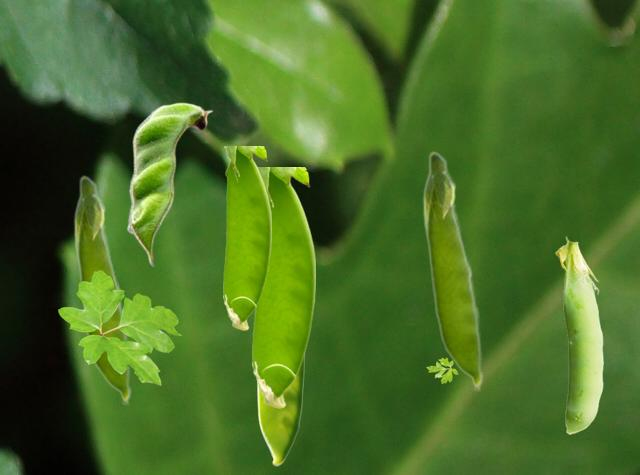pea: (252, 167, 314, 407), (422, 150, 483, 390), (126, 102, 212, 266), (73, 174, 131, 404), (555, 236, 602, 433), (223, 146, 270, 329), (257, 358, 304, 465)
